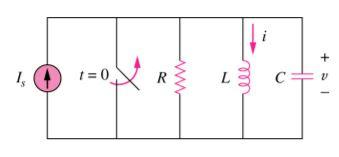Capacitor: (287, 62, 317, 89)
